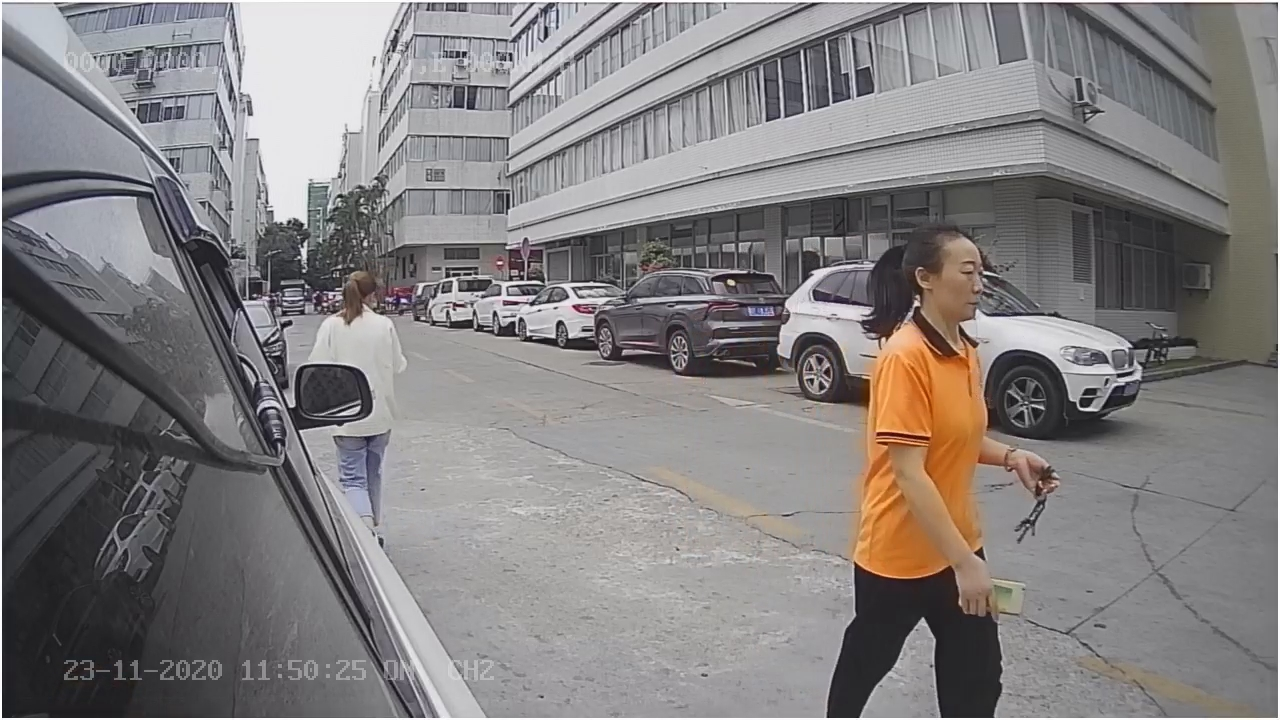person: (840, 223, 1057, 499), (299, 266, 413, 362)
